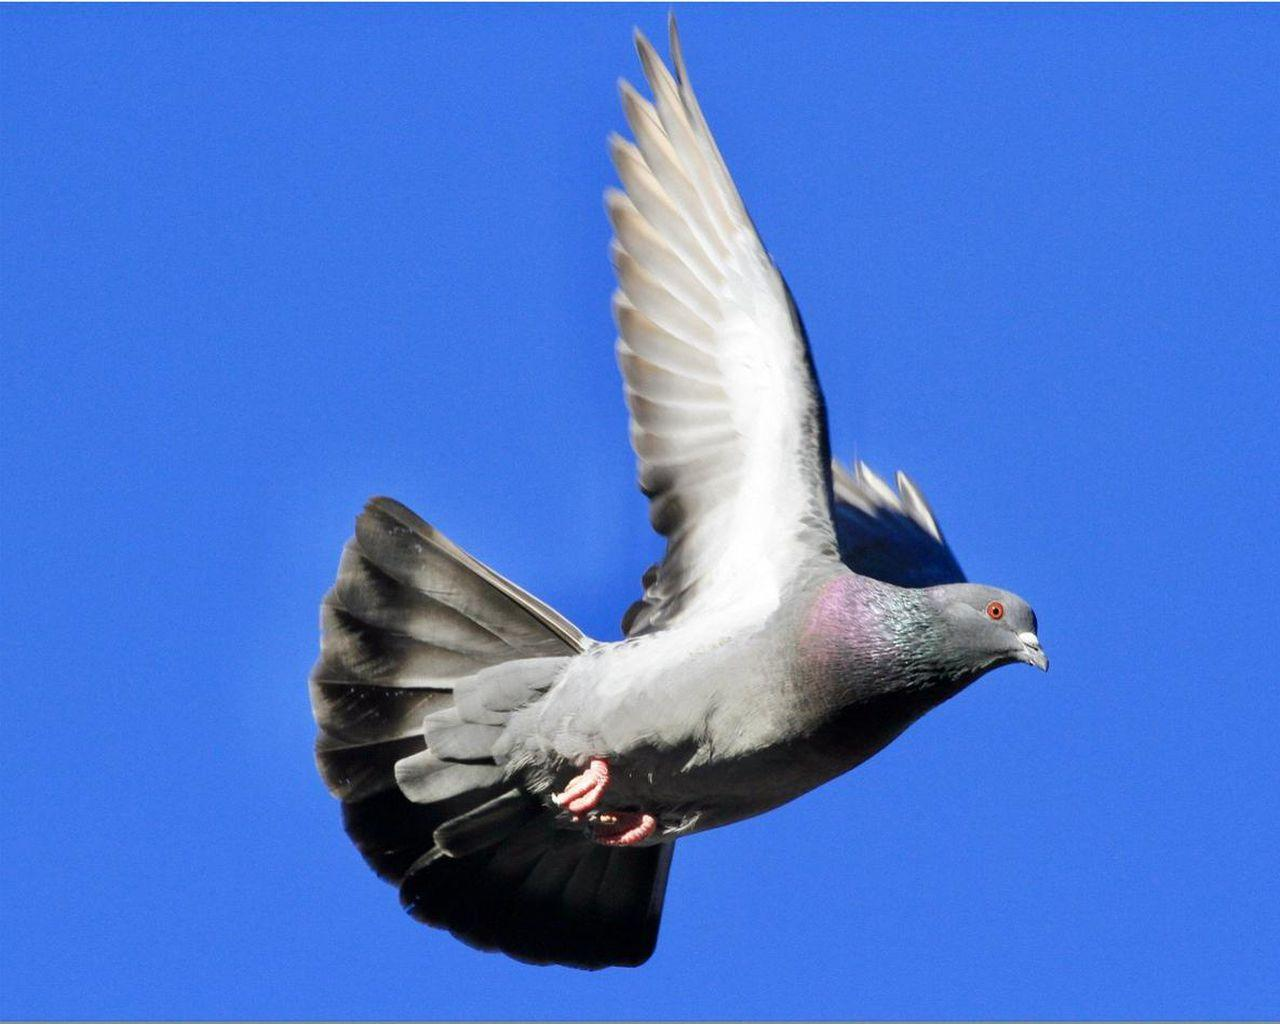Flying Rat: (299, 22, 1097, 977)
